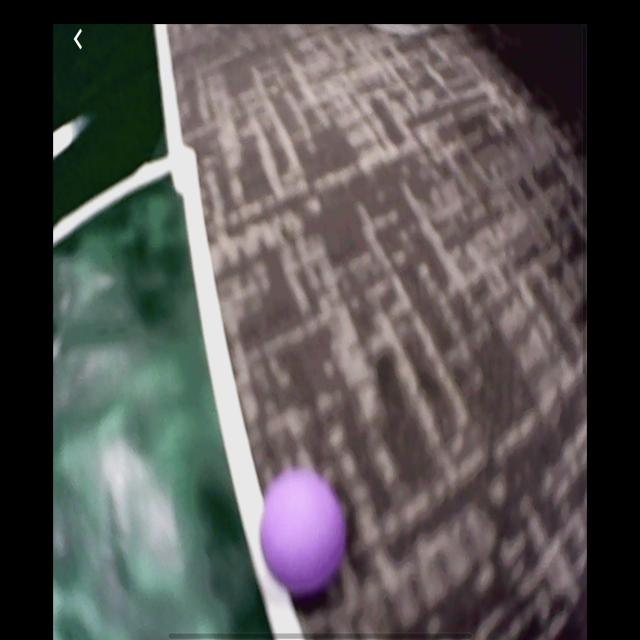ball: (259, 467, 347, 601)
